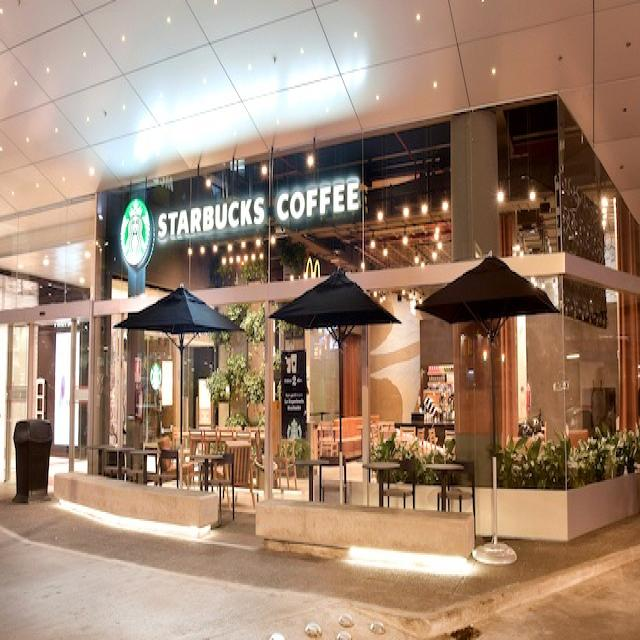starbucks: (154, 174, 369, 238), (114, 194, 152, 274)
